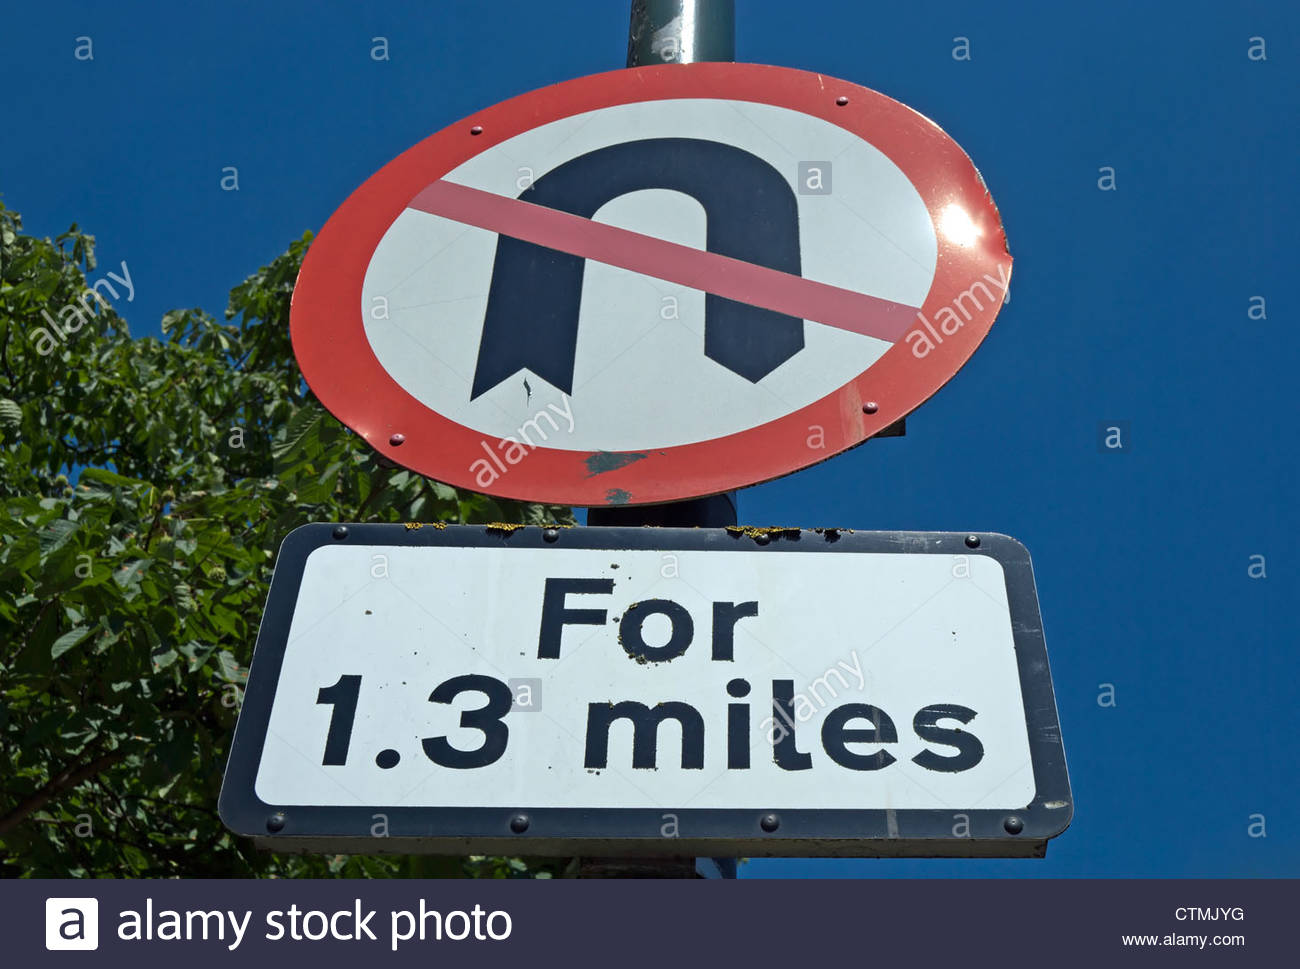No_u_turn: (289, 61, 1018, 507)
